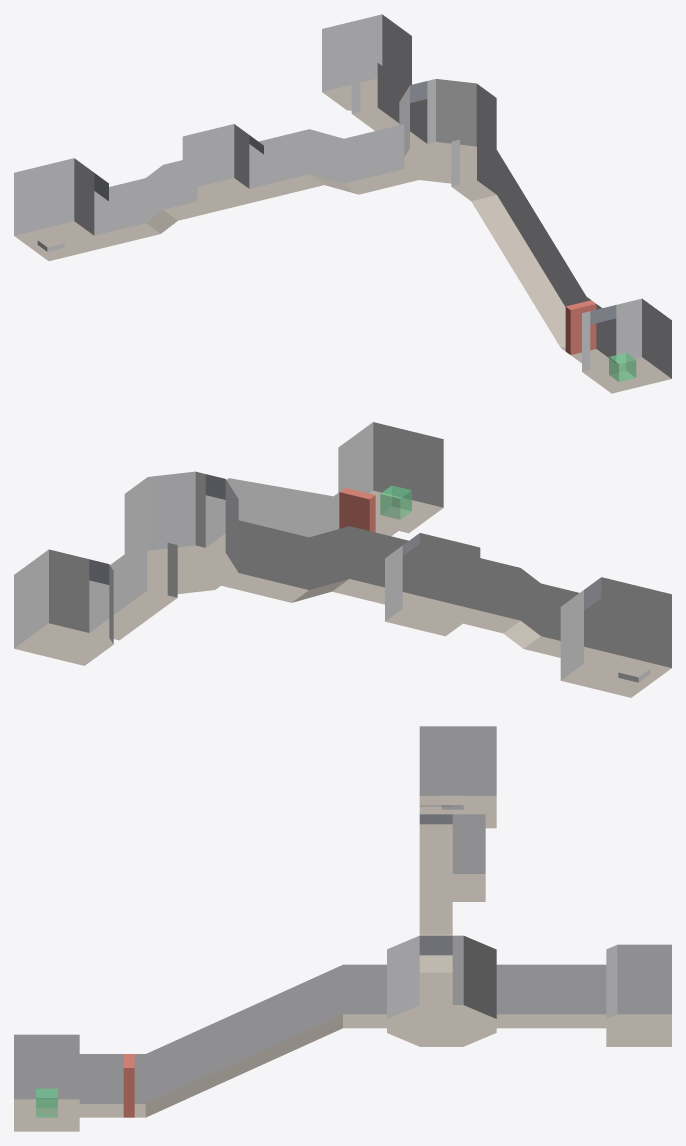
The model's file is habitat_05.glb.
The picture shows the model from 3 angles, top to bottom: view 1: azimuth 30°, elevation 25°; view 2: azimuth 150°, elevation 25°; view 3: azimuth 270°, elevation 25°; orthographic projection. The views are drawn at different scales.
Visible parts, largest first — view 1: corridor:1, corridor:2, room:4, room:1, corridor:3, room:0, room:2, room:3, corridor:0, entities; view 2: corridor:2, room:1, room:4, room:0, room:2, room:3, corridor:3, corridor:1, corridor:0, entities; view 3: corridor:1, room:1, room:4, corridor:0, room:0, room:2, room:3, corridor:2, corridor:3, entities.
Part boxes in pixels (x1,y1,x2,y2): corridor:1: (451, 135, 616, 369); corridor:2: (249, 124, 418, 199); room:4: (14, 158, 108, 261); room:1: (399, 79, 496, 184); corridor:3: (94, 156, 211, 246); room:0: (322, 14, 411, 111); room:2: (582, 298, 671, 393); room:3: (182, 124, 263, 212); corridor:0: (351, 63, 427, 147); entities: (565, 300, 636, 381); corridor:2: (221, 520, 419, 608); room:1: (124, 471, 238, 595); room:4: (560, 577, 671, 697); room:0: (14, 549, 113, 665); room:2: (338, 422, 443, 533); room:3: (385, 533, 480, 636); corridor:3: (463, 558, 601, 663); corridor:1: (205, 471, 398, 552); corridor:0: (89, 538, 177, 640); entities: (339, 485, 411, 532); corridor:1: (79, 964, 386, 1117); room:1: (387, 935, 496, 1046); room:4: (419, 726, 496, 828); corridor:0: (496, 964, 606, 1028); room:0: (606, 944, 671, 1046); room:2: (14, 1034, 79, 1131); room:3: (419, 814, 485, 901); corridor:2: (419, 902, 452, 1004); corridor:3: (419, 805, 452, 873); entities: (36, 1054, 134, 1117).
Bounding box in the file's own units: 52 × 17 × 60.
